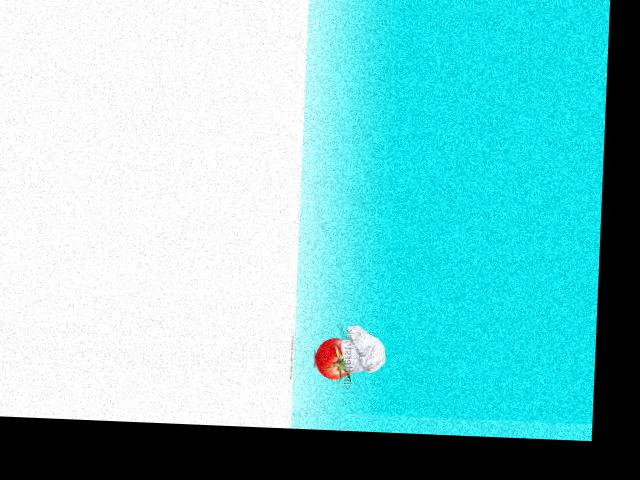tomato: (315, 337, 351, 379)
